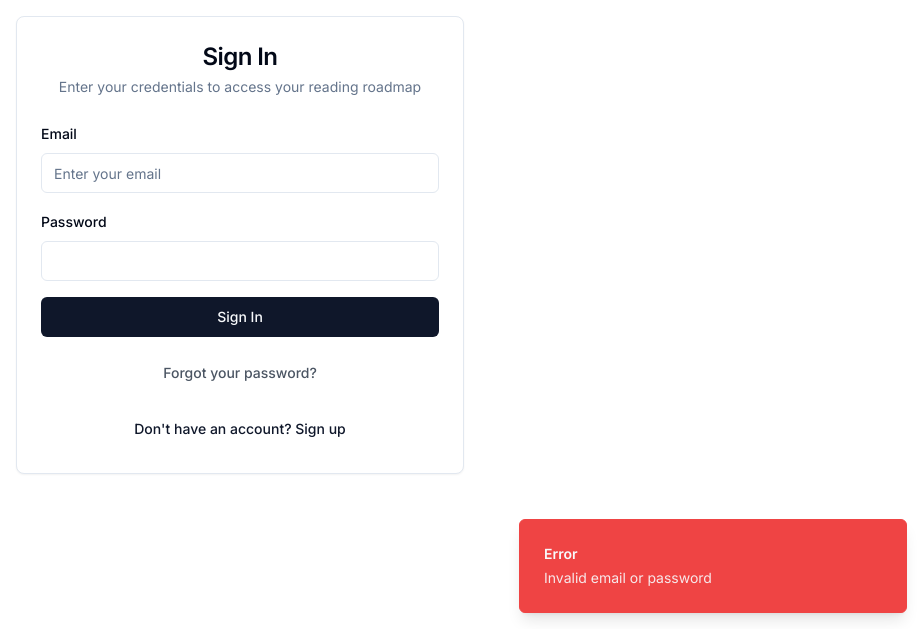
Test: Complete Authentication Flow › Form Switching › should switch between login and registration forms
Expected: the heading "Sign In" is shown, [203, 42, 277, 71]
Expected: the button "Sign In" is shown, [41, 297, 439, 337]
Click the button "Don't have an account? Sign up": (240, 429) [118, 409, 362, 449]
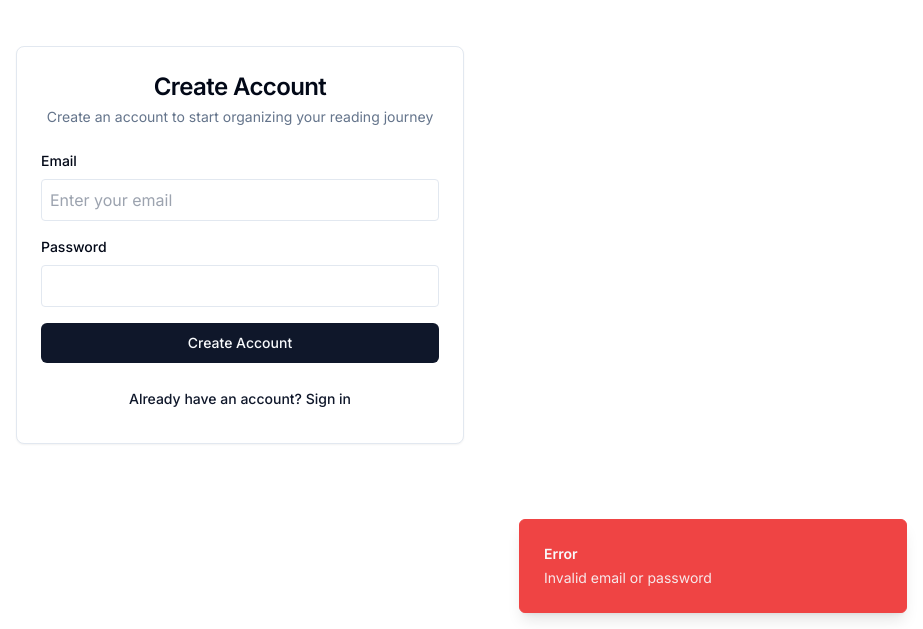
Expected: the heading "Create Account" is shown, [154, 72, 326, 101]
Expected: the button "Create Account" is shown, [41, 323, 439, 363]
Click the button "Already have an account? Sign in": (240, 399) [113, 379, 367, 419]
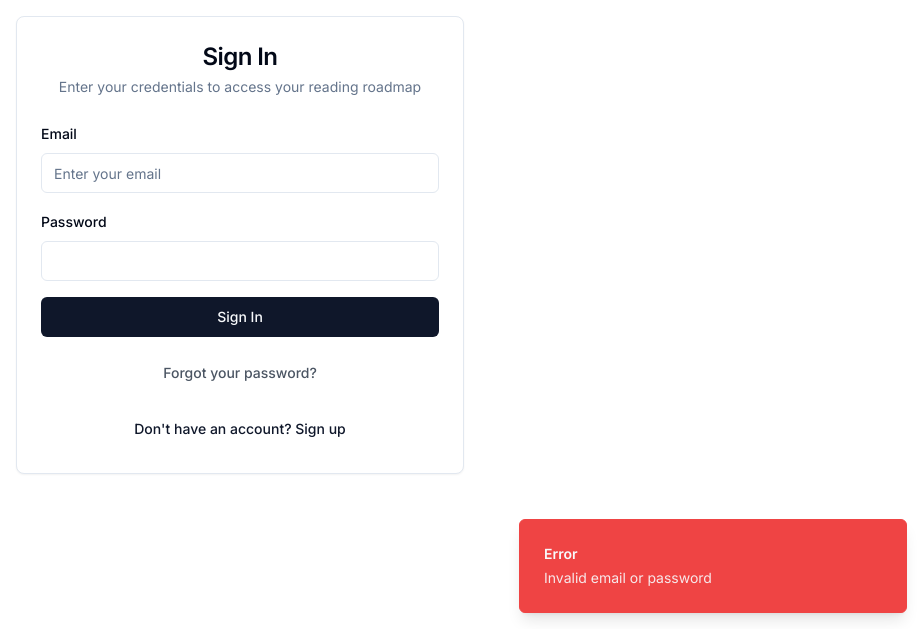
Expected: the heading "Sign In" is shown, [203, 42, 277, 71]
